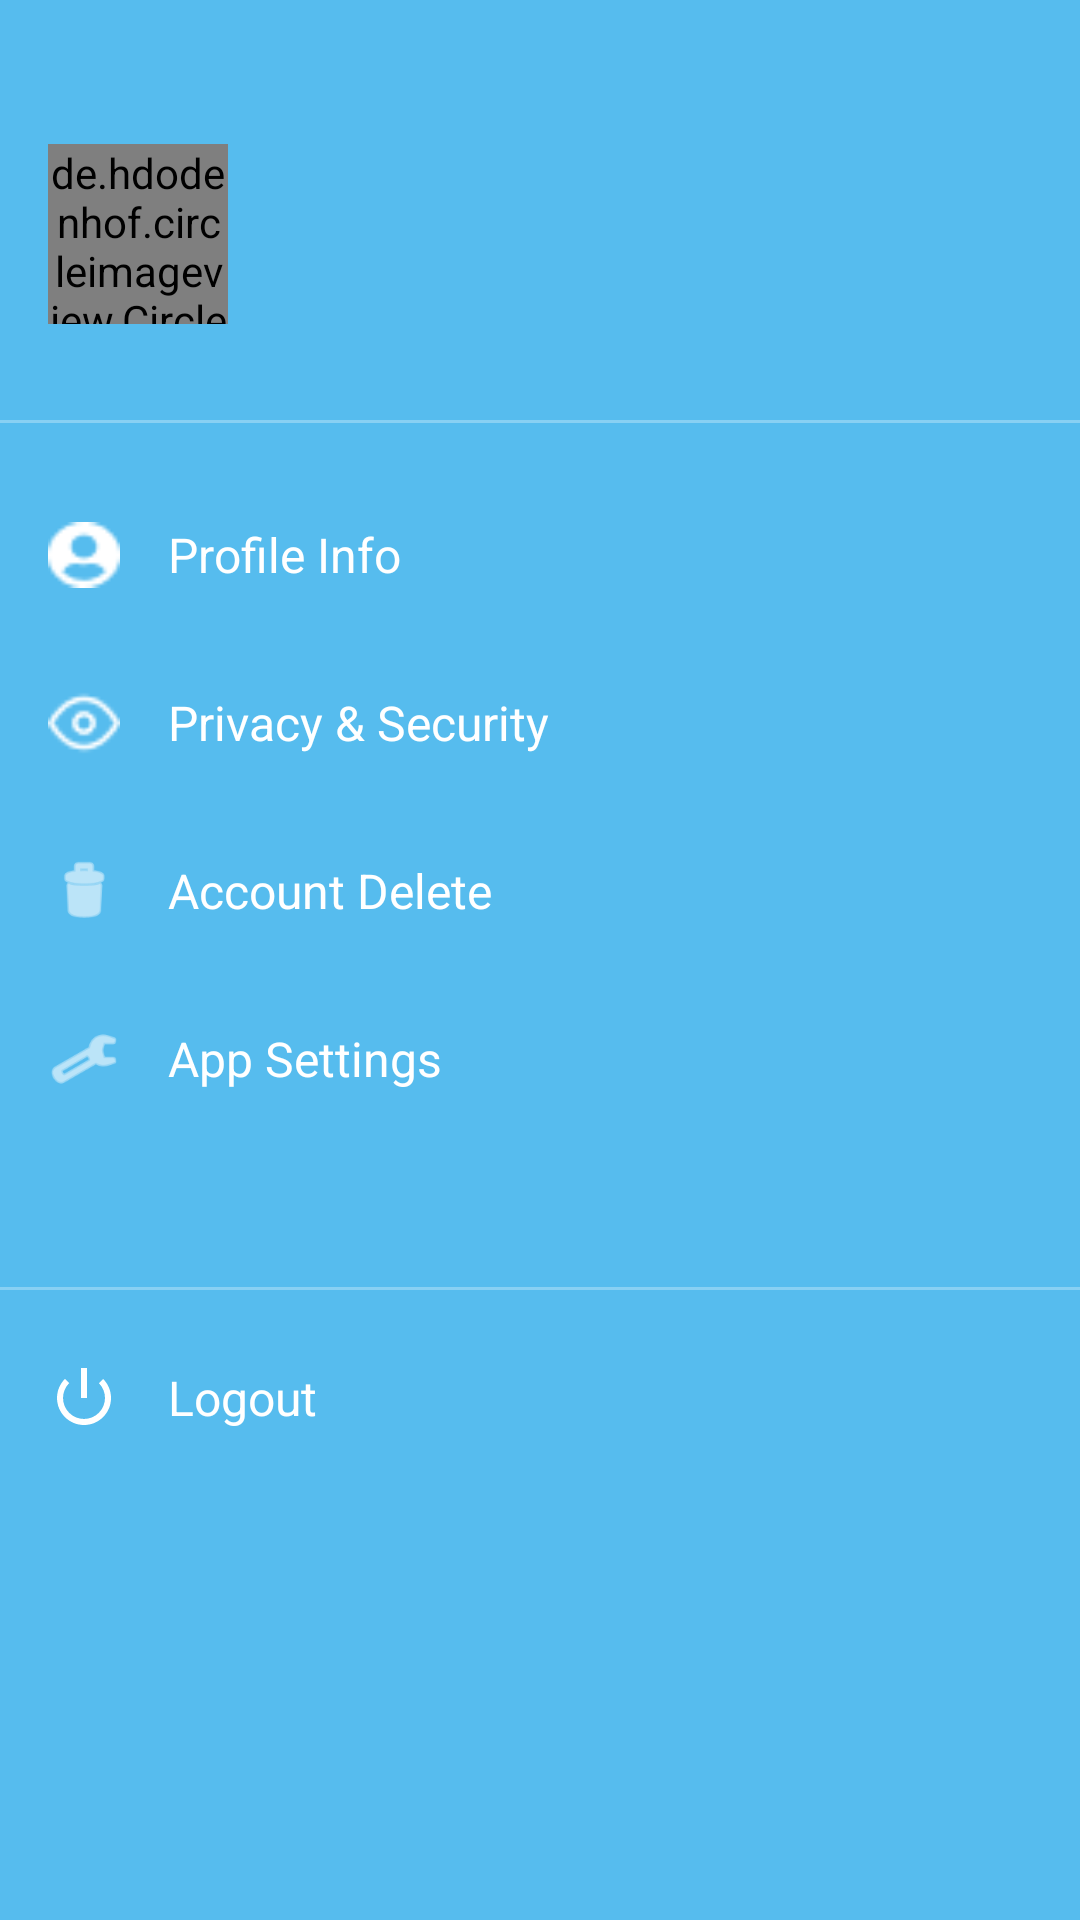

Screen size 1080*1920. Icon name, then its box in pixels as (x1, y1, x2, y2):
lock power off: (57, 1368, 111, 1425)
preferences: (52, 1034, 116, 1084)
